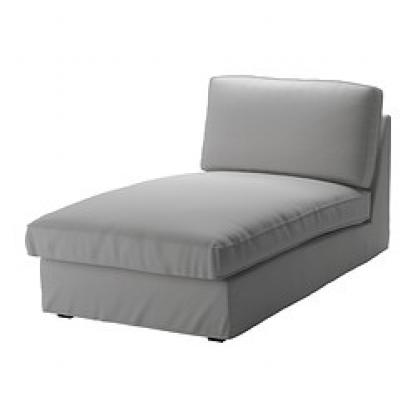Sofa: (20, 63, 391, 348)
